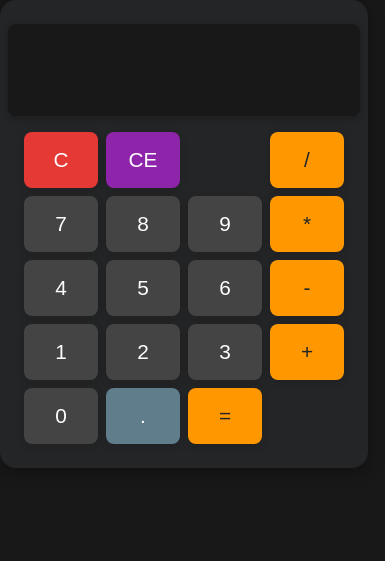
it: Calculator Component › handles division by zero
Click the button "8" at (143, 224), box x1=106 y1=196 x2=180 y2=252
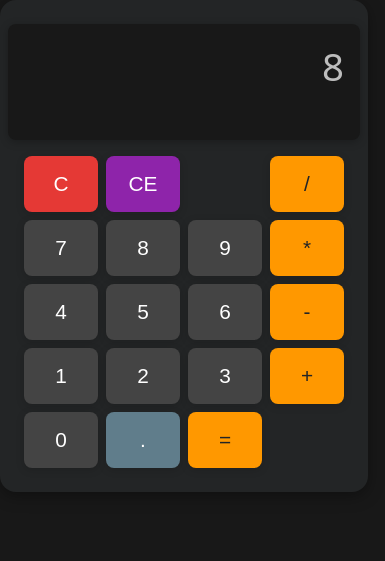
Click the button "/" at (307, 184), box x1=270 y1=156 x2=344 y2=212
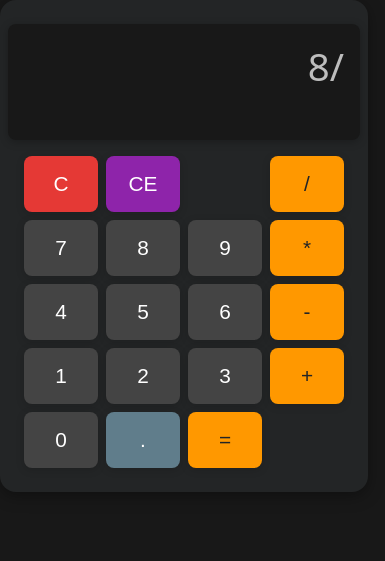
Click the button "0" at (61, 440), box x1=24 y1=412 x2=98 y2=468
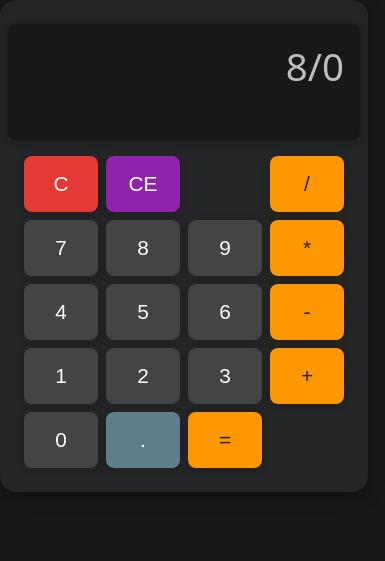
Click the button "=" at (225, 440), box x1=188 y1=412 x2=262 y2=468
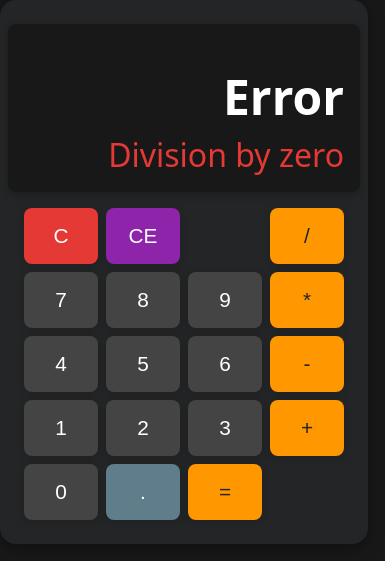
Check: the text with test id "result" reads "Error", box x1=223 y1=64 x2=344 y2=129
Check: the text "Division by zero" is shown, box x1=108 y1=133 x2=344 y2=176
